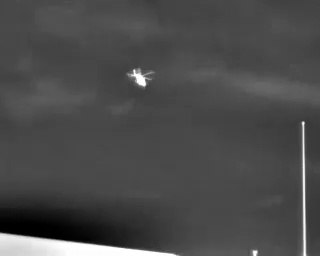HELICOPTER: (121, 62, 159, 96)
